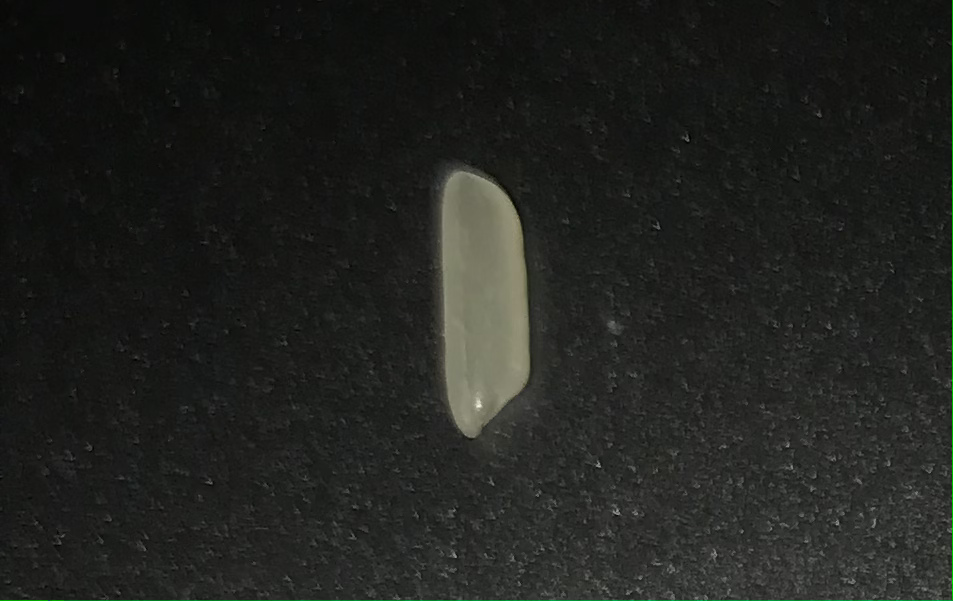Gao Thom My: (428, 168, 571, 446)
